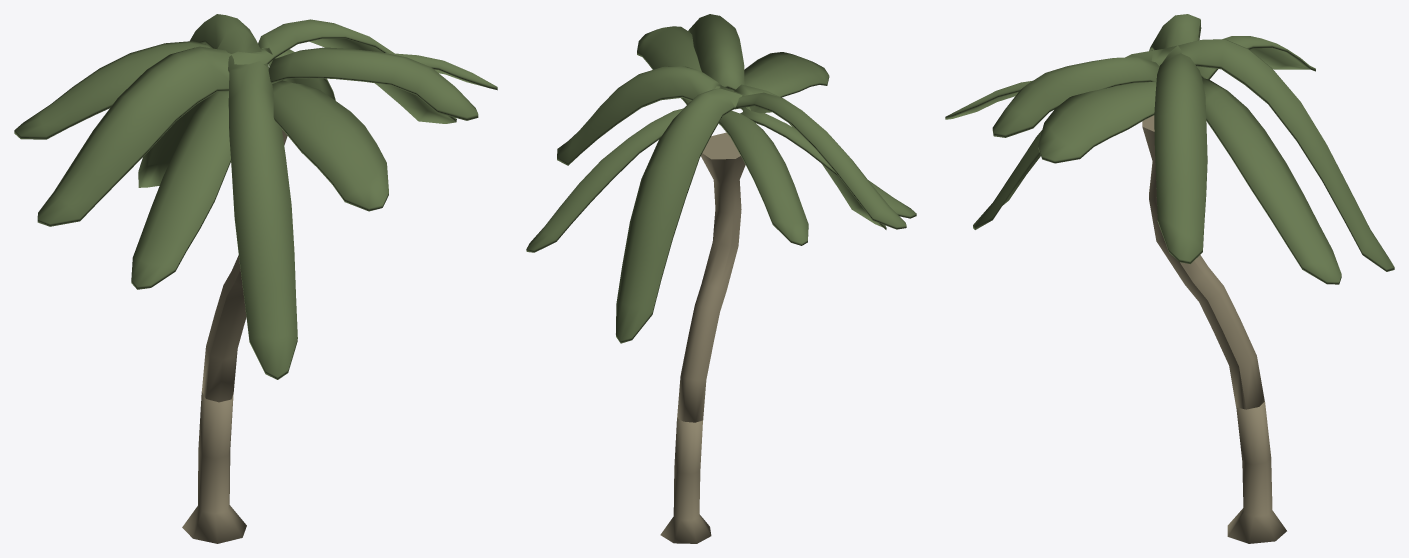
The model's file is Palm SB1 PREFAB .fbx.
The picture shows the model from 3 angles, left to right: view 1: azimuth 30°, elevation 25°; view 2: azimuth 150°, elevation 25°; view 3: azimuth 270°, elevation 25°; orthographic projection. The views are drawn at different scales.
Parts seen in each view (by area): view 1: Cylinder.007, Cylinder.005, Cylinder.016; view 2: Cylinder.007, Cylinder.016, Cylinder.005; view 3: Cylinder.007, Cylinder.016, Cylinder.005.
Boxes of the visible parts, <box> form: Cylinder.007: <box>14,14,497,379</box>; Cylinder.005: <box>182,391,246,543</box>; Cylinder.016: <box>202,129,287,402</box>; Cylinder.007: <box>526,14,916,343</box>; Cylinder.016: <box>677,132,745,422</box>; Cylinder.005: <box>660,418,711,543</box>; Cylinder.007: <box>945,14,1394,284</box>; Cylinder.016: <box>1142,115,1264,409</box>; Cylinder.005: <box>1227,401,1286,543</box>.
Size of the model in its own units: 369 by 443 by 367.
